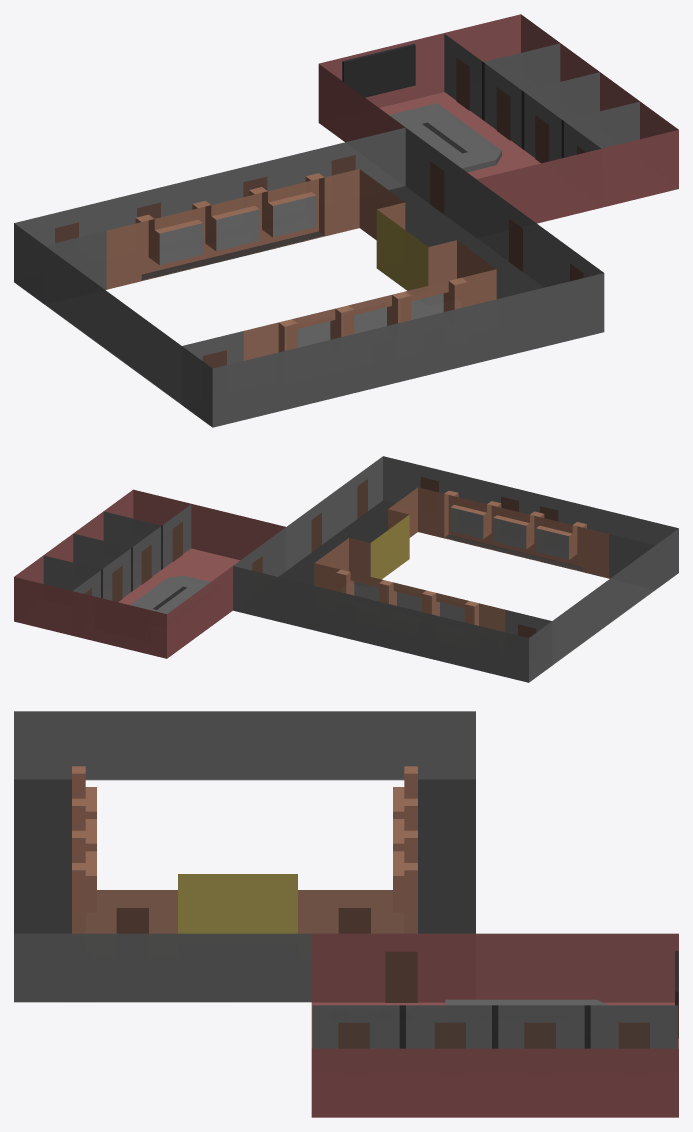
Rendered from FloorModel.fbx.
3 renders of one model, top to bottom at view 1: azimuth 30°, elevation 25°; view 2: azimuth 150°, elevation 25°; view 3: azimuth 270°, elevation 25°, orthographic. The views are drawn at different scales.
Visible parts, largest first — view 1: Plane; view 2: Plane; view 3: Plane.
Part boxes in pixels (left/top/right/bottom): Plane: left=14, top=14, right=678, bottom=427; Plane: left=14, top=456, right=678, bottom=682; Plane: left=14, top=711, right=678, bottom=1117.
Size of the model in its own units: 4105 by 391 by 3421.
